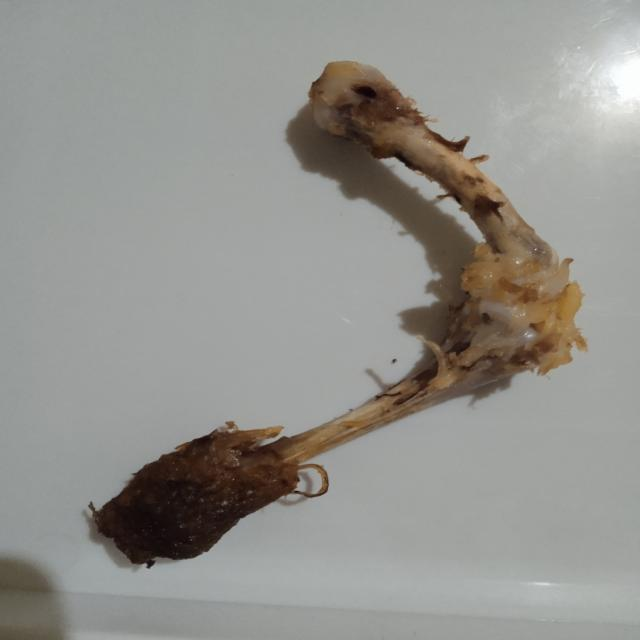bone: (81, 47, 596, 585)
